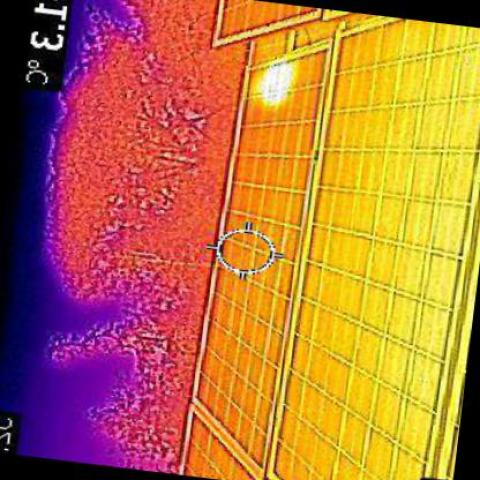fault: (263, 57, 297, 102)
